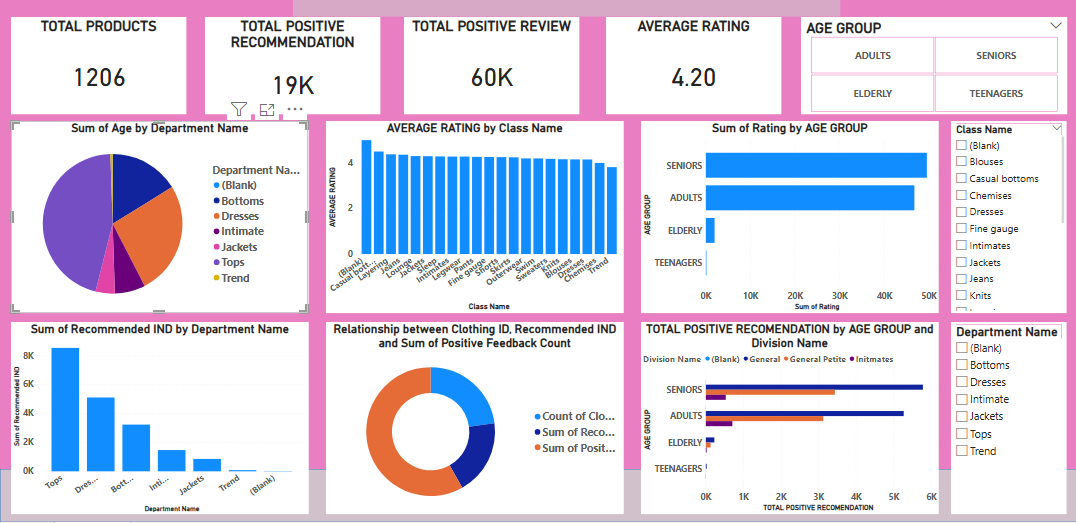

What the dashboard file says about the page in this screenshot:
{"tool":"powerbi","page":{"name":"Page 1","canvas":[2700,1400],"ordinal":0},"visuals":[{"type":"shape","box":[0,0,2800,132.5],"z":0},{"type":"textbox","box":[734.6,0,1372.9,132.5],"z":1000},{"type":"card","title":"TOTAL PRODUCTS","fields":{"Values":["DAX Table.TOTAL PRODUCT"]},"box":[27.1,132.5,439.6,243.9],"z":2000},{"type":"card","title":"TOTAL POSITIVE RECOMMENDATION","fields":{"Values":["DAX Table.TOTAL POSITIVE RECOMENDATION"]},"box":[514.8,132.5,439.6,243.9],"z":3000},{"type":"card","title":"TOTAL POSITIVE REVIEW","fields":{"Values":["DAX Table.TOTAL POSITIVE REVIEW"]},"box":[1014.6,132.5,439.6,243.9],"z":4000},{"type":"card","title":"AVERAGE RATING","fields":{"Values":["DAX Table.AVERAGE RATING"]},"box":[1520.4,132.5,439.6,243.9],"z":5000},{"type":"slicer","fields":{"Values":["Womens Clothing E-Commerce Revi.AGE GROUP"]},"box":[2009,133.5,667.7,243.9],"z":6000},{"type":"pieChart","fields":{"Series":["Womens Clothing E-Commerce Revi.Department Name"],"Y":["Sum(Womens Clothing E-Commerce Revi.Age)"]},"box":[27.1,394.4,746.7,481.7],"z":7000},{"type":"clusteredColumnChart","fields":{"Category":["Womens Clothing E-Commerce Revi.Department Name"],"Y":["Sum(Womens Clothing E-Commerce Revi.Recommended IND)"]},"box":[27.1,897.2,746.7,481.7],"z":8000},{"type":"clusteredColumnChart","fields":{"Category":["Womens Clothing E-Commerce Revi.Class Name"],"Y":["DAX Table.AVERAGE RATING"]},"box":[818.9,394.4,746.7,481.7],"z":9000},{"type":"donutChart","title":"Relationship between Clothing ID, Recommended IND and Sum of Positive Feedback Count","fields":{"Y":["CountNonNull(Womens Clothing E-Commerce Revi.Clothing ID)","Sum(Womens Clothing E-Commerce Revi.Recommended IND)","Sum(Womens Clothing E-Commerce Revi.Positive Feedback Count)"]},"box":[818.9,897.2,746.7,481.7],"z":10000},{"type":"clusteredBarChart","fields":{"Category":["Womens Clothing E-Commerce Revi.AGE GROUP"],"Y":["Sum(Womens Clothing E-Commerce Revi.Rating)"]},"box":[1607.7,394.4,746.7,481.7],"z":11000},{"type":"clusteredBarChart","fields":{"Category":["Womens Clothing E-Commerce Revi.AGE GROUP"],"Y":["DAX Table.TOTAL POSITIVE RECOMENDATION"],"Series":["Womens Clothing E-Commerce Revi.Division Name"]},"box":[1607.7,897.2,746.7,481.7],"z":12000},{"type":"slicer","fields":{"Values":["Womens Clothing E-Commerce Revi.Class Name"]},"box":[2386.5,394.8,290.3,481.9],"z":13000},{"type":"slicer","fields":{"Values":["Womens Clothing E-Commerce Revi.Department Name"]},"box":[2386,897,290,482],"z":14000}]}

Visuals, with their boxes in screenshot pixels (x1, y1, x2, y2):
shape: {"left": 0, "top": 0, "right": 1075, "bottom": 16}
textbox: {"left": 291, "top": 0, "right": 836, "bottom": 16}
"TOTAL PRODUCTS" card: {"left": 11, "top": 16, "right": 185, "bottom": 113}
"TOTAL POSITIVE RECOMMENDATION" card: {"left": 204, "top": 16, "right": 379, "bottom": 113}
"TOTAL POSITIVE REVIEW" card: {"left": 403, "top": 16, "right": 577, "bottom": 113}
"AVERAGE RATING" card: {"left": 603, "top": 16, "right": 778, "bottom": 113}
slicer - Womens Clothing E-Commerce Revi.AGE GROUP: {"left": 797, "top": 17, "right": 1062, "bottom": 113}
pieChart - Womens Clothing E-Commerce Revi.Department Name x Sum(Womens Clothing E-Commerce Revi.Age): {"left": 11, "top": 120, "right": 307, "bottom": 311}
clusteredColumnChart - Womens Clothing E-Commerce Revi.Department Name x Sum(Womens Clothing E-Commerce Revi.Recommended IND): {"left": 11, "top": 320, "right": 307, "bottom": 511}
clusteredColumnChart - Womens Clothing E-Commerce Revi.Class Name x DAX Table.AVERAGE RATING: {"left": 325, "top": 120, "right": 621, "bottom": 311}
"Relationship between Clothing ID, Recommended IND and Sum of Positive Feedback Count" donutChart: {"left": 325, "top": 320, "right": 621, "bottom": 511}
clusteredBarChart - Womens Clothing E-Commerce Revi.AGE GROUP x Sum(Womens Clothing E-Commerce Revi.Rating): {"left": 638, "top": 120, "right": 934, "bottom": 311}
clusteredBarChart - Womens Clothing E-Commerce Revi.AGE GROUP x DAX Table.TOTAL POSITIVE RECOMENDATION: {"left": 638, "top": 320, "right": 934, "bottom": 511}
slicer - Womens Clothing E-Commerce Revi.Class Name: {"left": 947, "top": 120, "right": 1062, "bottom": 311}
slicer - Womens Clothing E-Commerce Revi.Department Name: {"left": 947, "top": 319, "right": 1062, "bottom": 511}
